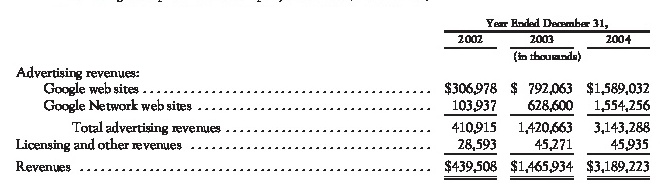table: (0, 0, 667, 194)
